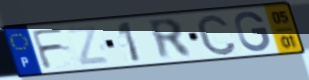1: (115, 20, 143, 64)
C: (194, 12, 239, 57)
F: (29, 26, 68, 71)
G: (233, 10, 273, 54)
R: (145, 17, 196, 61)
Z: (64, 24, 113, 68)
